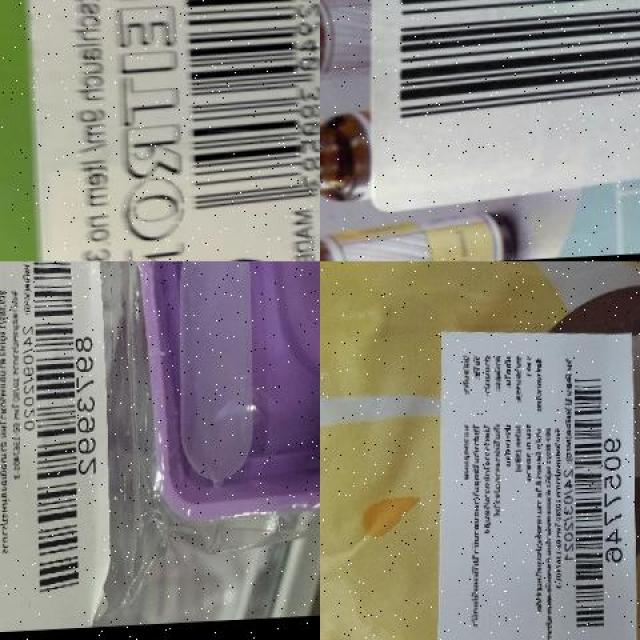Barcode: (22, 0, 320, 261), (384, 0, 640, 132), (20, 261, 97, 615), (568, 366, 626, 640)
